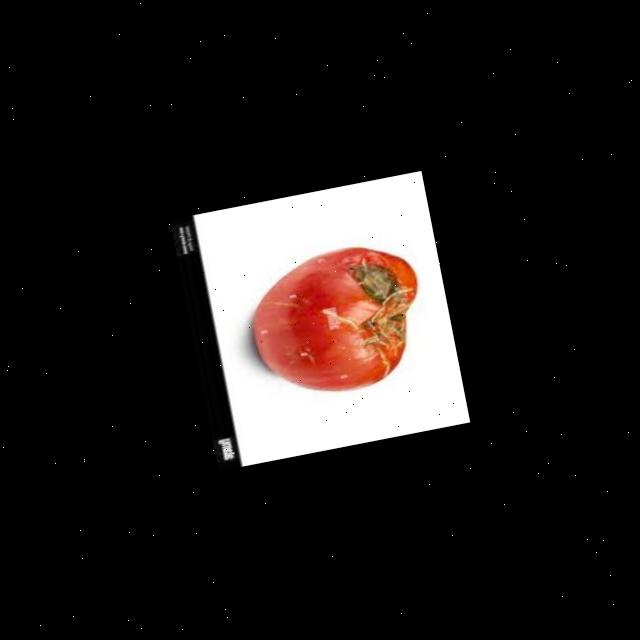tomato: (230, 229, 446, 412)
